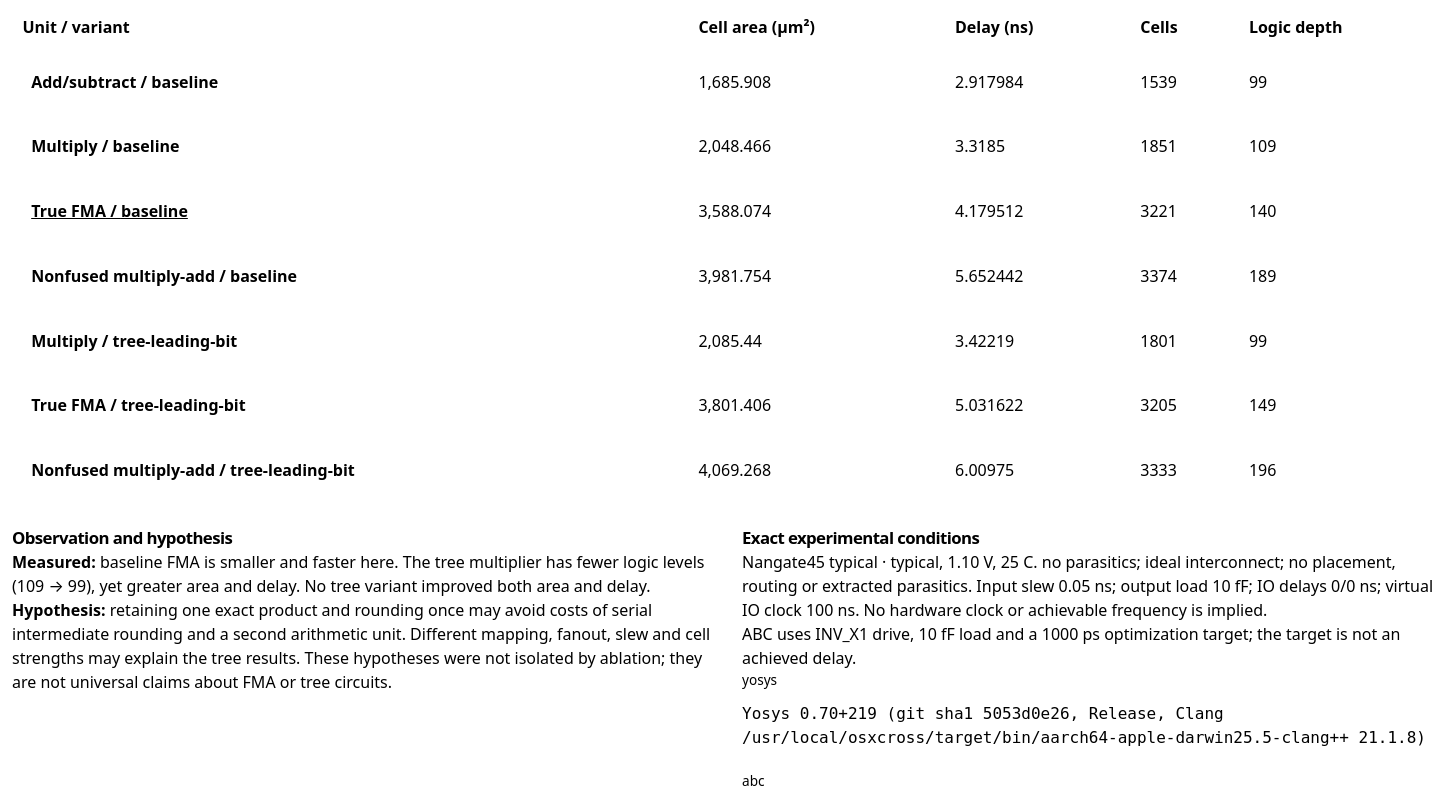
research showcase and compact landing › exposes real critical endpoints, full conditions and original dirty-state provenance
(page scrolled)
Click the button "True FMA / tree-leading-bit" at (138, 406), box [22,384,254,428]
(page scrolled)
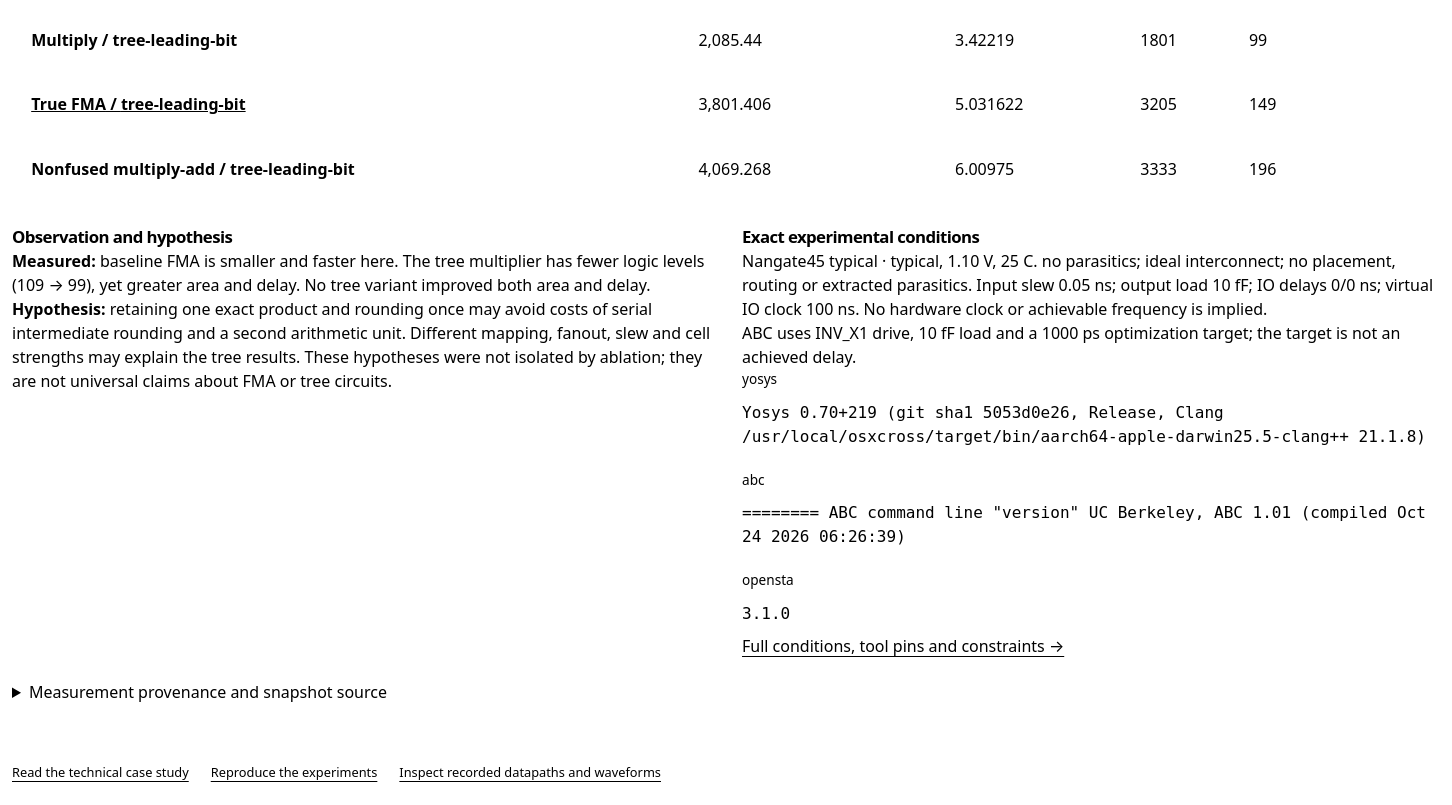
Expected: the text "Input slew 0.05 ns" shows "virtual IO clock 100 ns", [742,249,1451,321]
Expected: the text "Yosys 0.70+219" is shown, [742,403,1426,446]
Click the heading "Measurement provenance and snapshot source" at (208, 692), box [29,681,387,703]
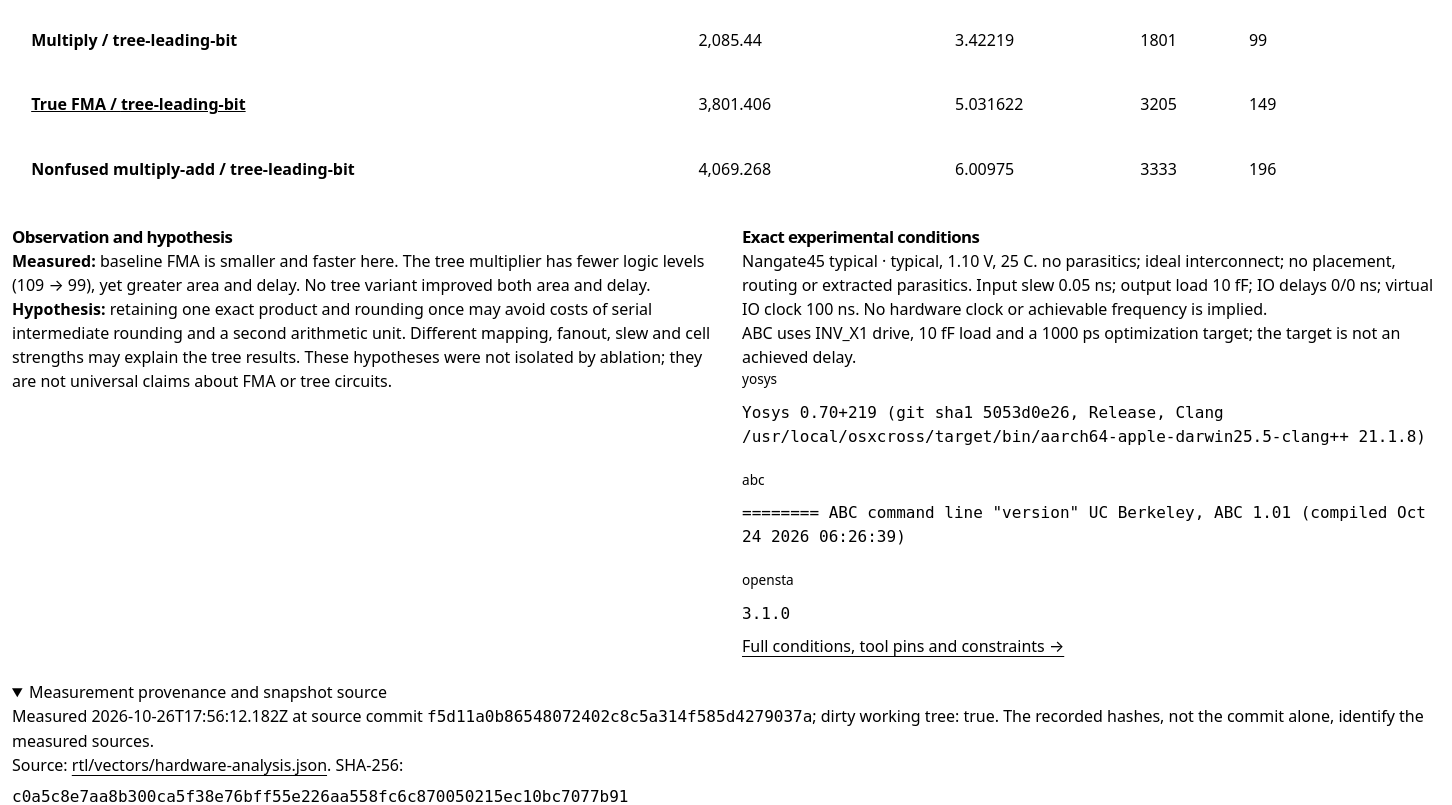
Now the text "dirty working tree: true" is shown, box [12,704,1451,753]
Now the link "rtl/vectors/hardware-analysis.json" is shown, box [72,754,327,776]
